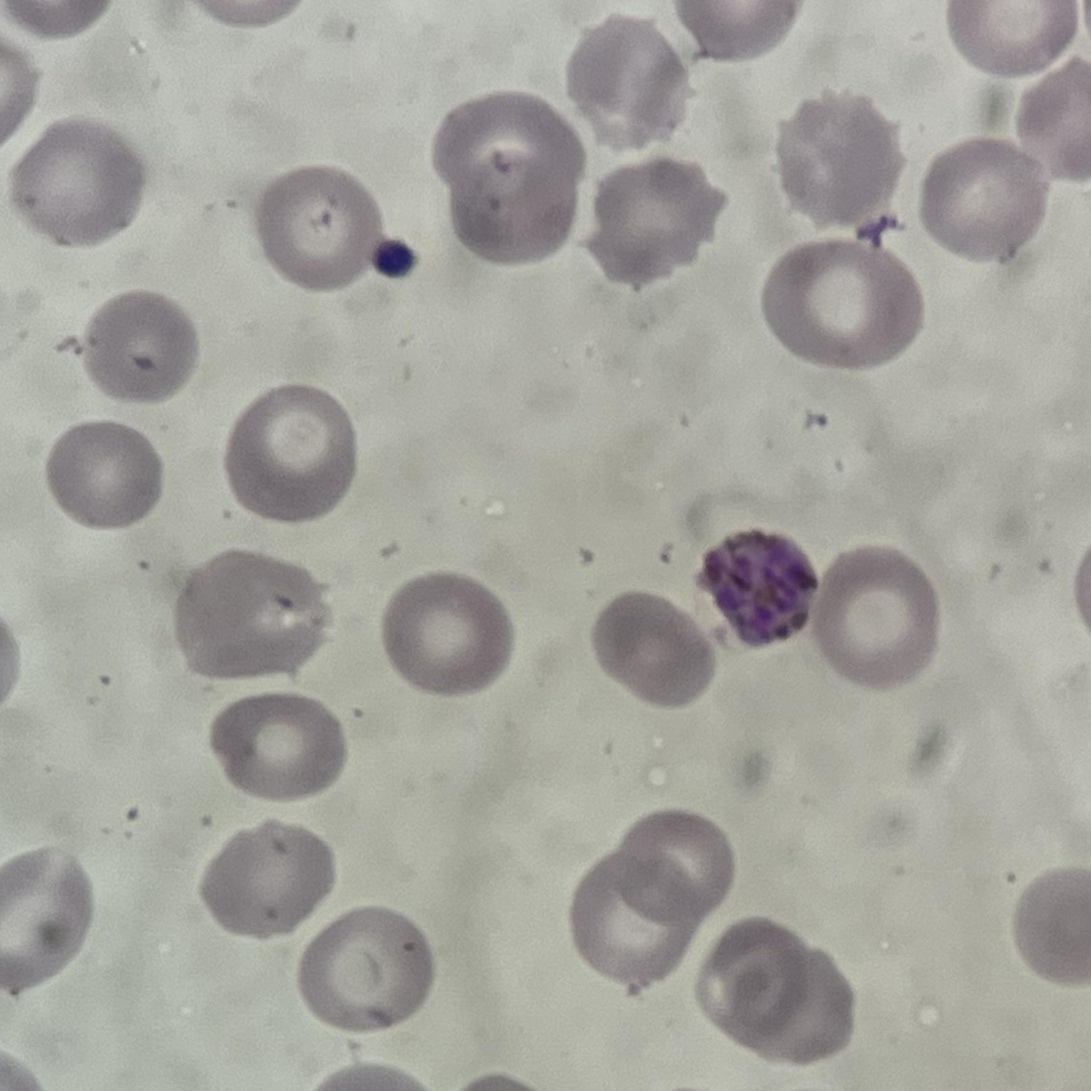Infected: (704, 526, 827, 643)
Uninfected: (175, 550, 332, 681), (760, 240, 919, 368), (581, 157, 724, 287), (222, 384, 357, 521), (774, 89, 907, 227), (8, 117, 148, 248), (809, 549, 939, 687), (297, 905, 435, 1033), (428, 94, 582, 206), (565, 17, 691, 151), (378, 573, 514, 695), (568, 853, 694, 984), (199, 821, 334, 940), (261, 163, 382, 292), (919, 140, 1048, 258), (207, 692, 344, 801), (589, 593, 716, 709), (78, 289, 199, 403), (451, 147, 572, 260), (1, 847, 93, 994), (617, 811, 736, 923), (702, 922, 811, 1040), (744, 956, 860, 1064), (44, 422, 162, 528), (1016, 54, 1091, 183), (950, 1, 1073, 75), (1012, 867, 1087, 985), (677, 2, 798, 60)
